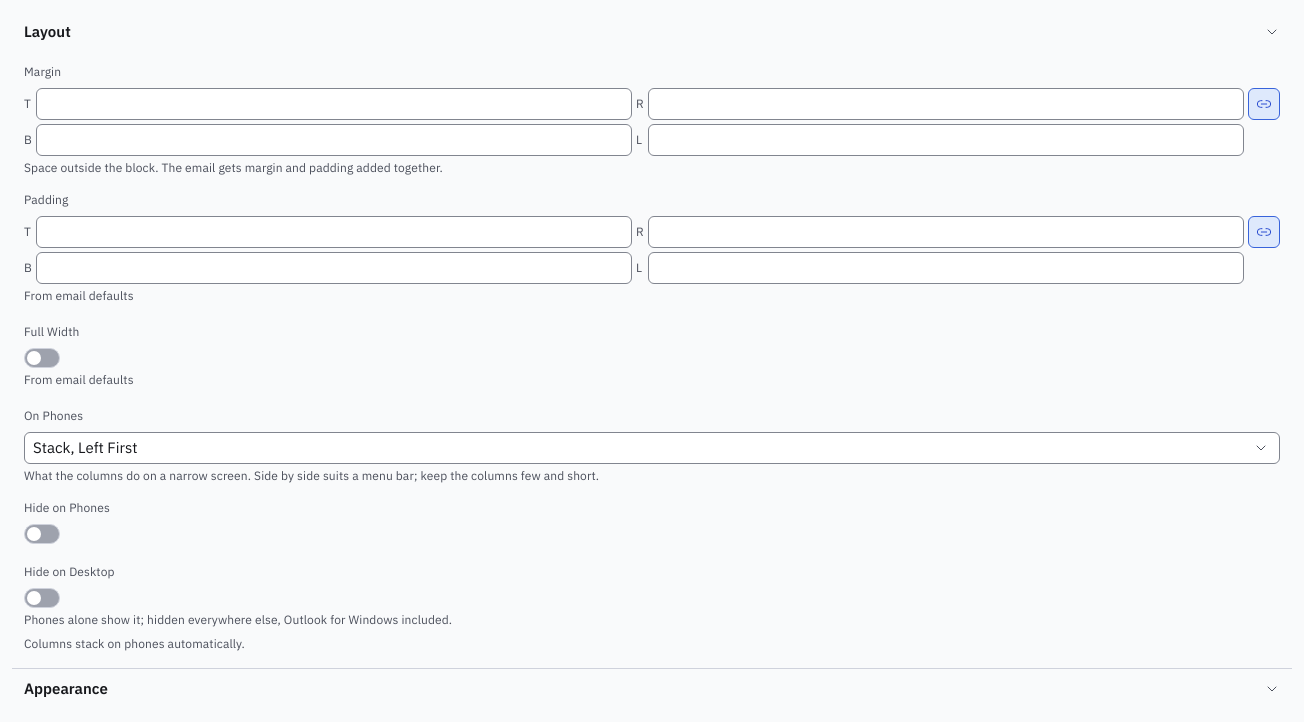
a section collapses and opens again
What coordinates should you click on to do the following:
click the button "Layout"
I would click on:
 (47, 32)
Its box is [12,12,1292,52].
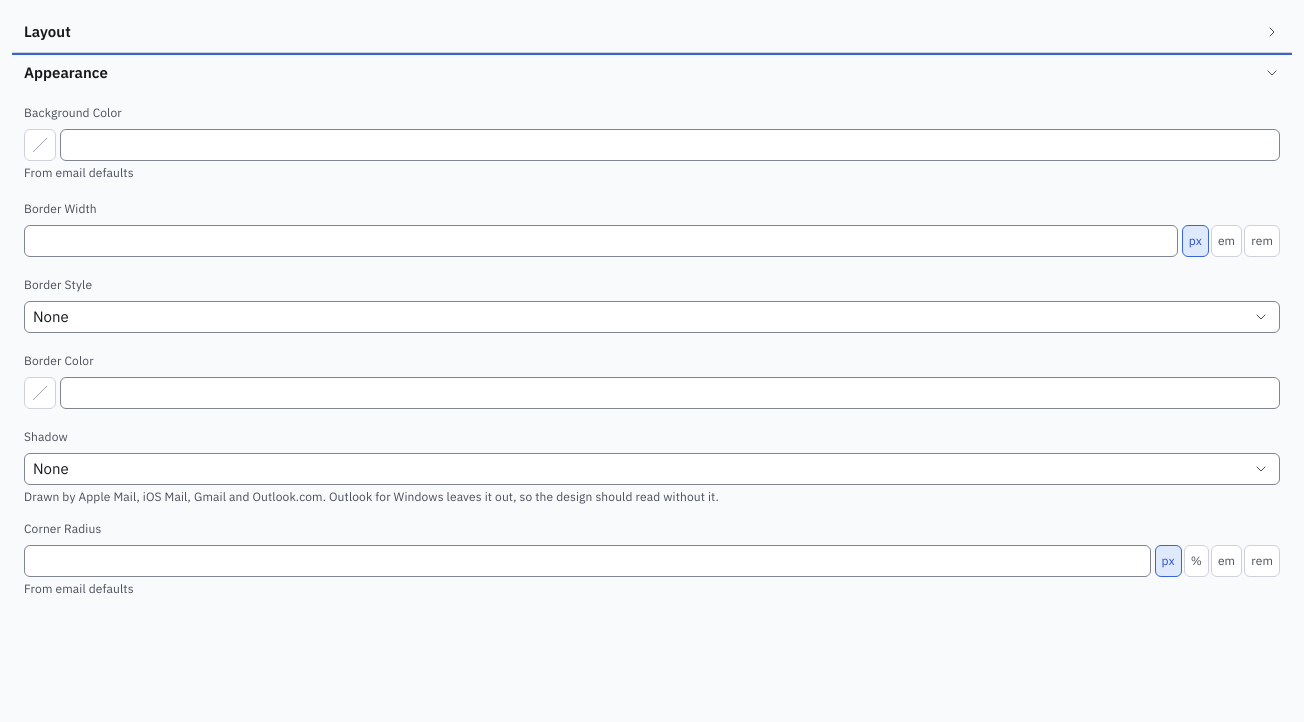
What coordinates should you click on to do the following:
click the button "Layout"
I would click on:
 (47, 32)
Its box is [12,12,1292,52].
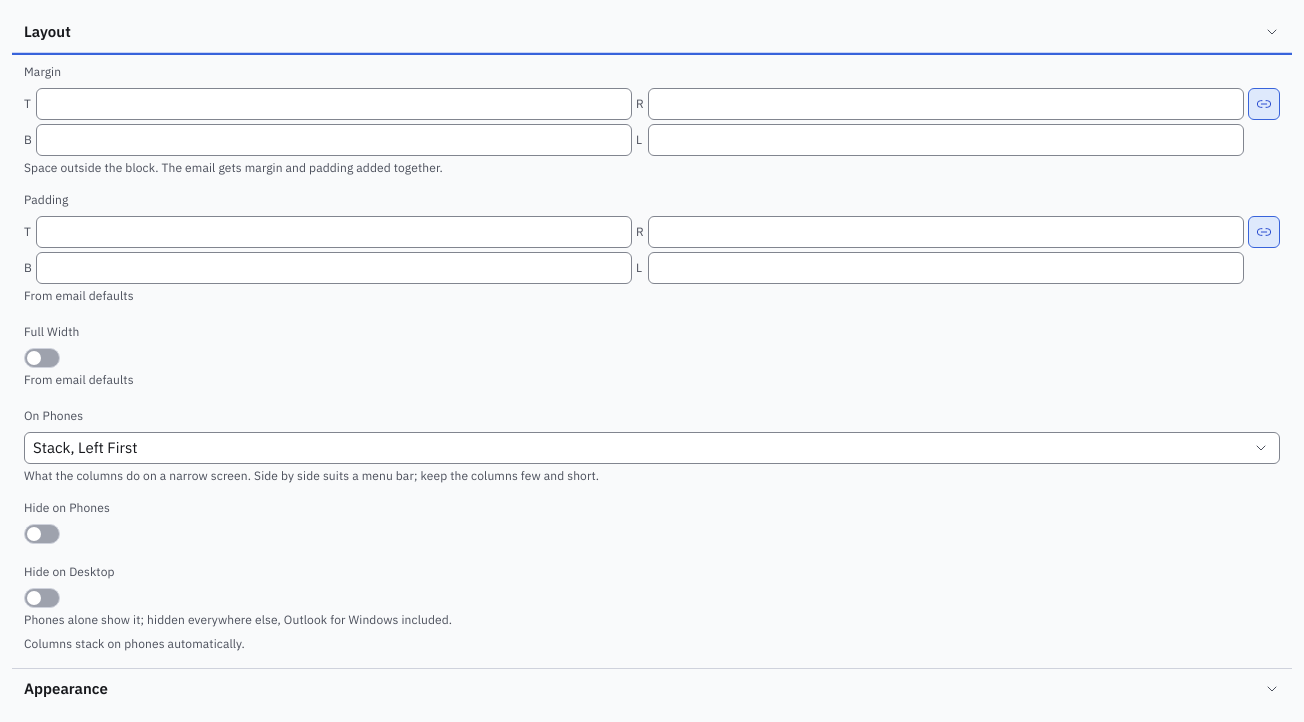
Now the element showing "Padding T R B L From email defaults" is shown, box [24,180,1280,312]
